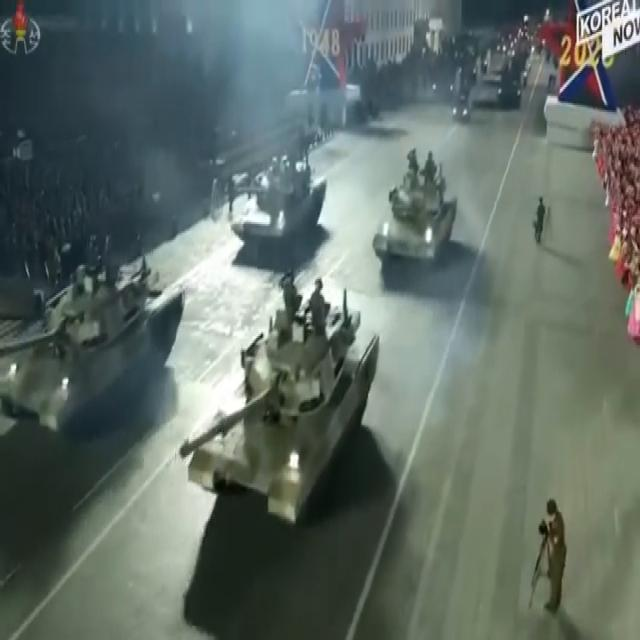north tank: (185, 248, 379, 535), (8, 212, 194, 470), (219, 94, 352, 268), (369, 137, 462, 269)
